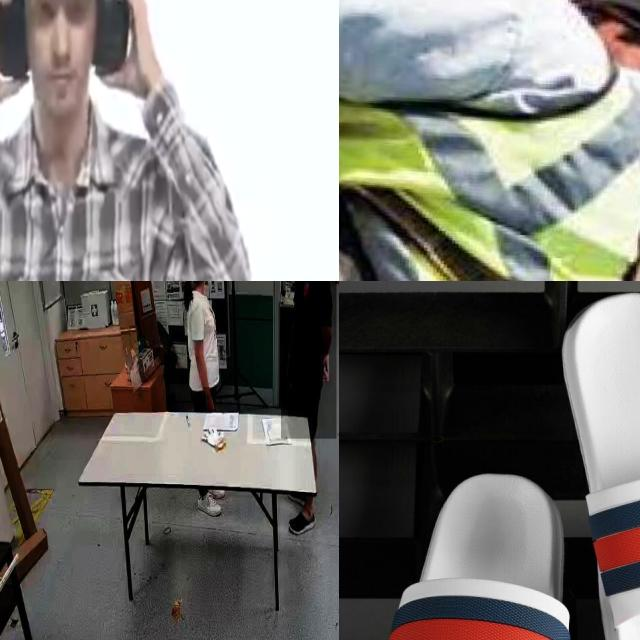Ear-protection: (0, 0, 138, 162)
Harness: (339, 116, 640, 281)
Sandals: (367, 281, 640, 640)
hand_noglove: (202, 387, 214, 412), (320, 354, 330, 382)
person: (281, 281, 337, 439), (179, 281, 223, 409)
shoes: (282, 501, 318, 539), (193, 488, 223, 518)
